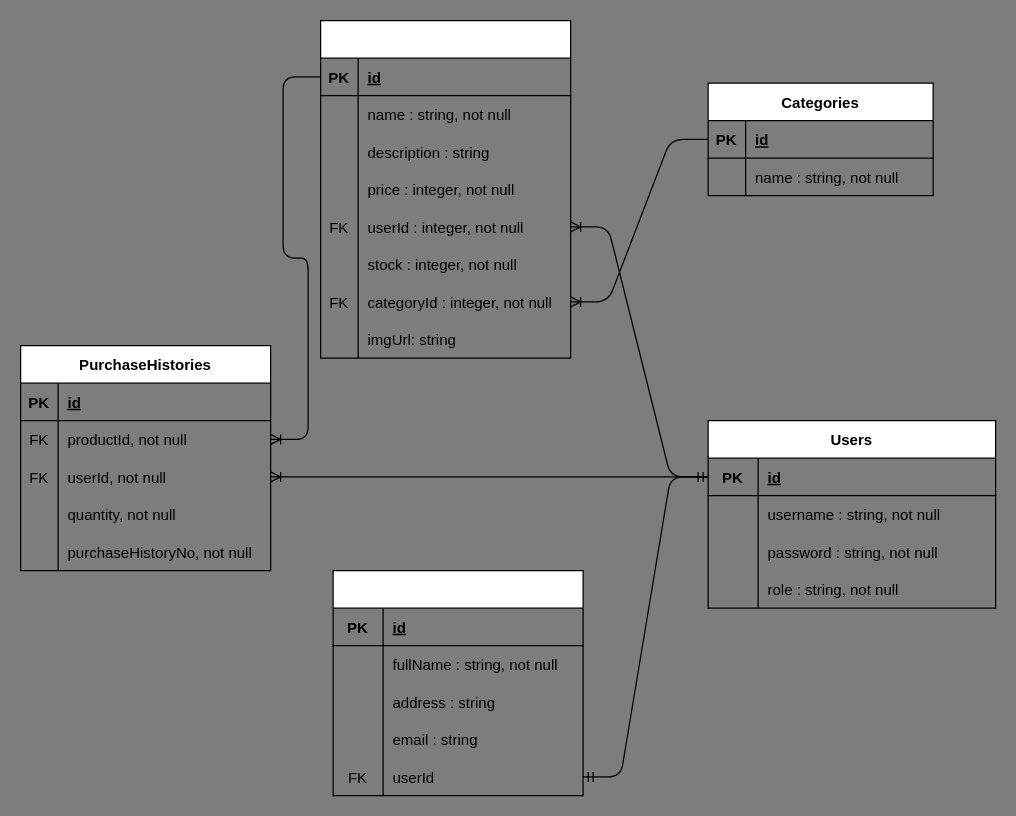
This 1016x816 diagram has some shape labels left out. Here are the shapes that lost their labels. From the top down, the box of each, then its label:
(319, 19, 571, 358): Products
(332, 569, 583, 796): UserProfiles
